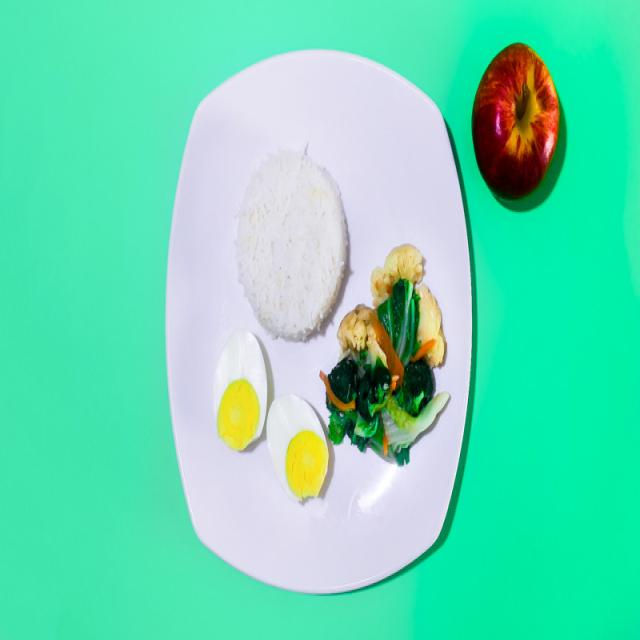Egg: (214, 333, 328, 502)
Fruits: (472, 43, 560, 206)
Green veg: (326, 279, 449, 465)
Non green veg: (338, 245, 424, 366), (420, 286, 442, 338)
Rice: (235, 151, 347, 340)
